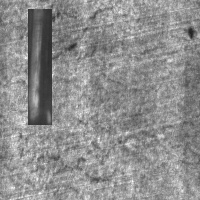crazing: (35, 118, 197, 183), (35, 4, 124, 63)
scratches: (28, 9, 52, 125)
